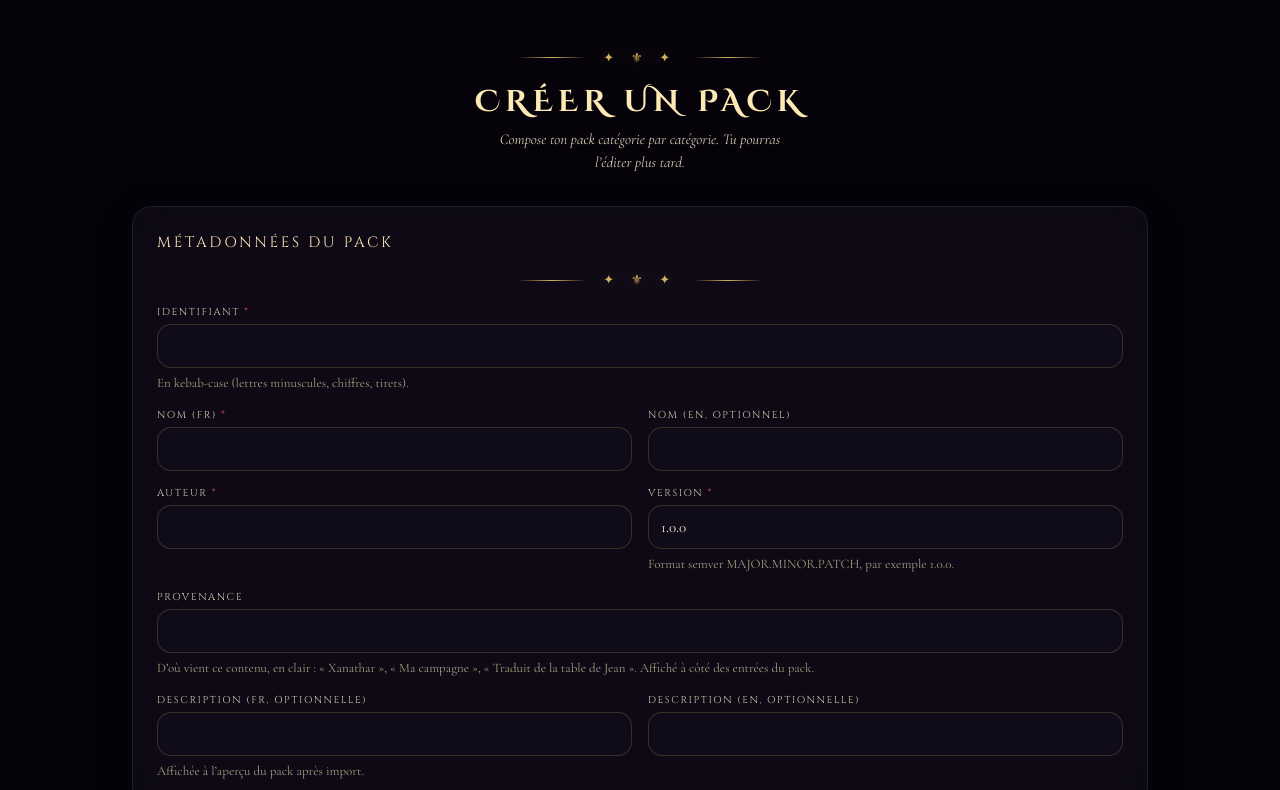
Test: PackEditorScreen — validation › refuse un save avec 0 feat (pack vide) — writePack non appelé
Type "pack-vide" into the field with test id "pack-meta-id".
click(640, 346); type("pack-vide")  # box [157, 324, 1123, 368]
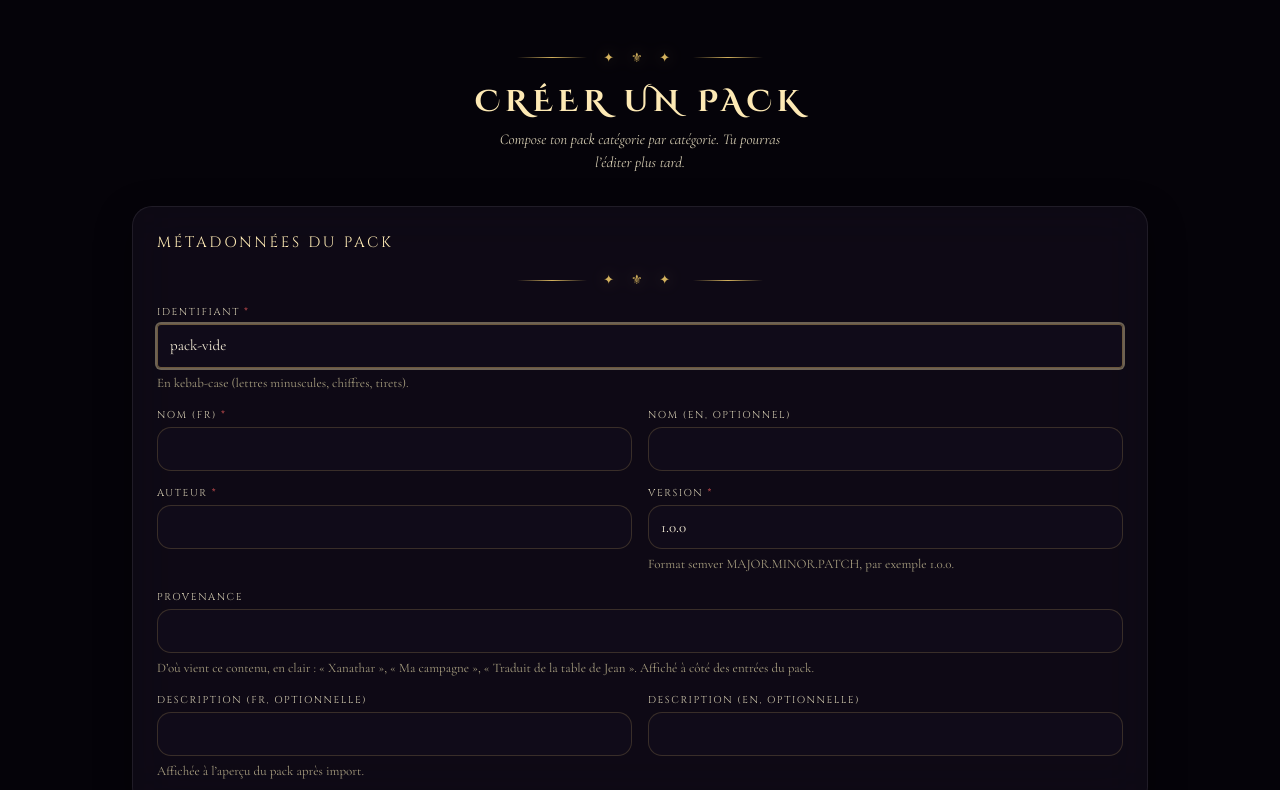
Type "Pack vide" into the field with test id "pack-meta-name-fr".
click(394, 449); type("Pack vide")  # box [157, 427, 632, 471]
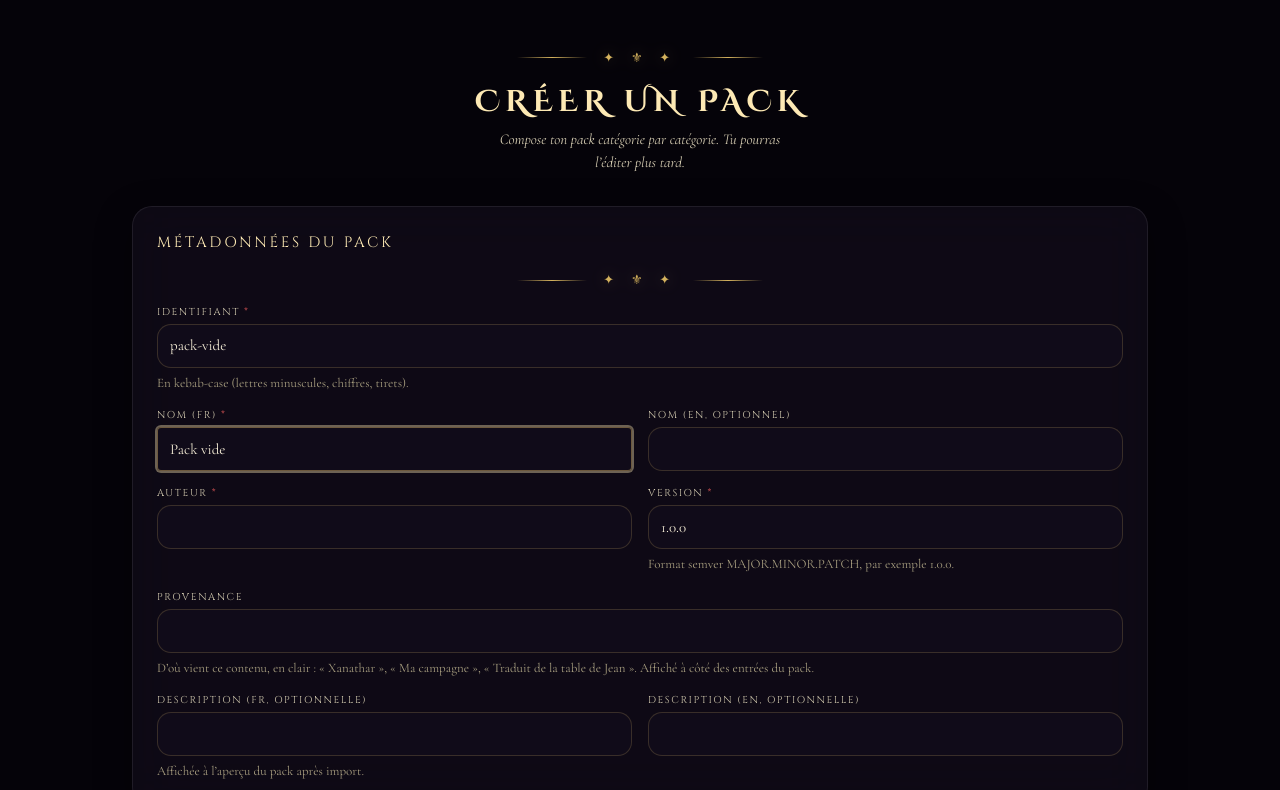
Type "Adrien" into the field with test id "pack-meta-author".
click(394, 527); type("Adrien")  # box [157, 505, 632, 549]
(page scrolled)
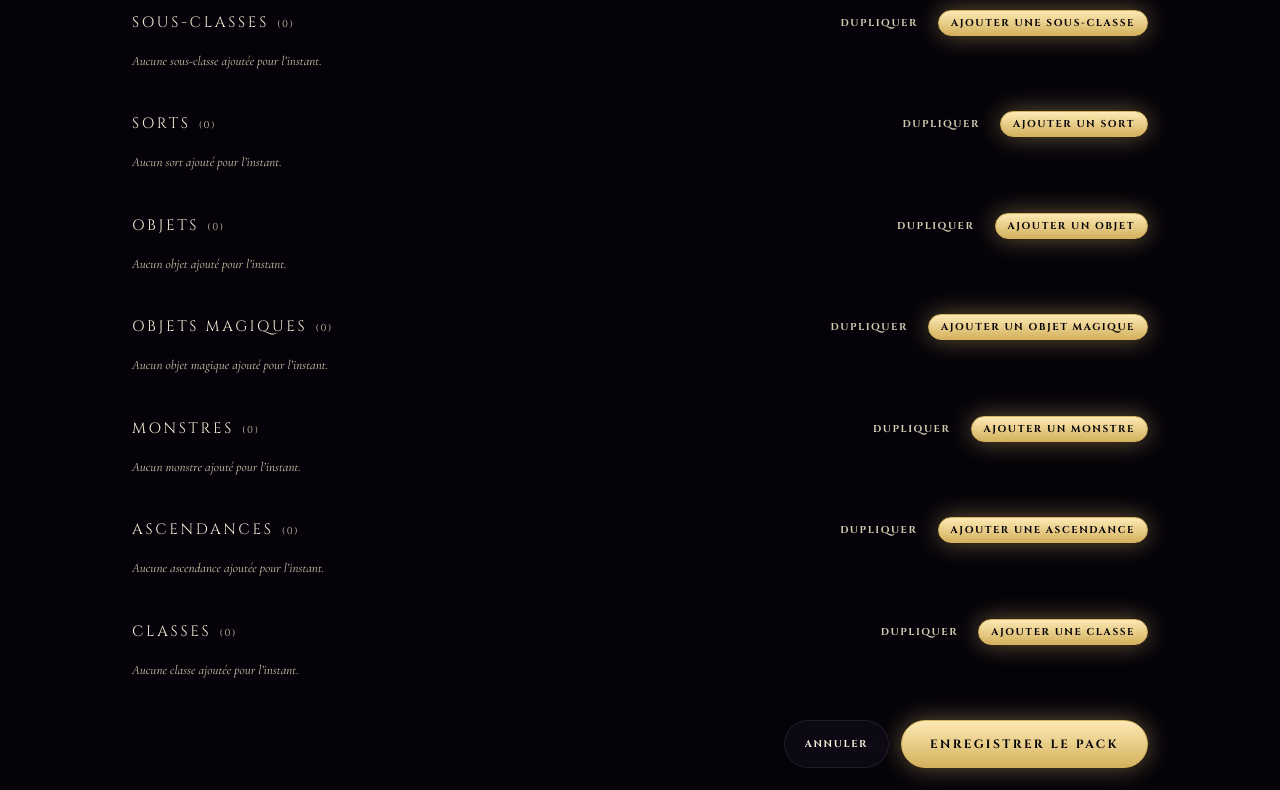
Click the button with test id "pack-editor-save".
click(1025, 744)  # box [901, 720, 1148, 768]
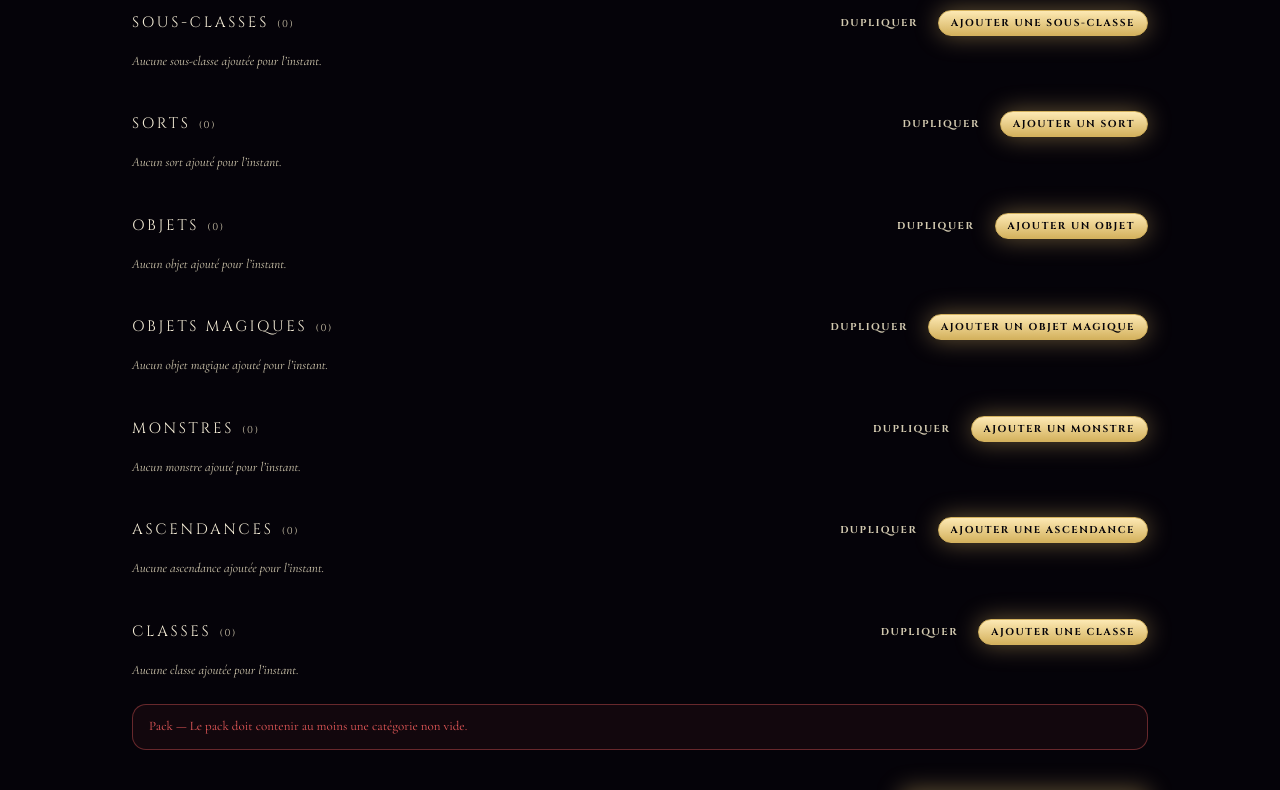
Now the message "Pack — Le pack doit contenir au moins une catégorie non vide." is shown, box [132, 704, 1148, 750]
